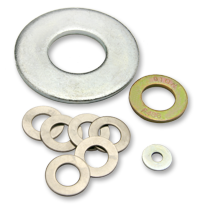flat washer: (10, 4, 147, 109), (126, 72, 191, 127), (41, 150, 93, 200), (69, 134, 121, 184), (83, 110, 135, 160), (139, 140, 173, 173)
